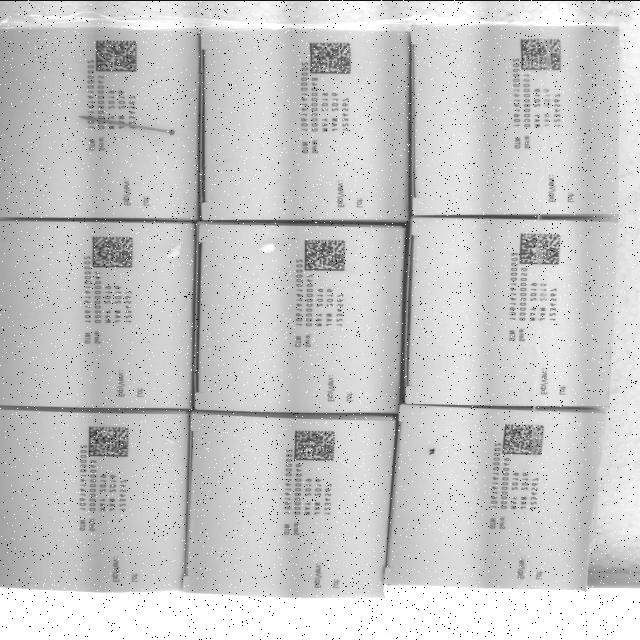datamatrix: (292, 427, 338, 462), (90, 233, 136, 268), (518, 229, 563, 264), (307, 40, 352, 75), (94, 37, 139, 72), (304, 238, 348, 273), (519, 36, 564, 70), (86, 424, 131, 458), (502, 423, 546, 457)
